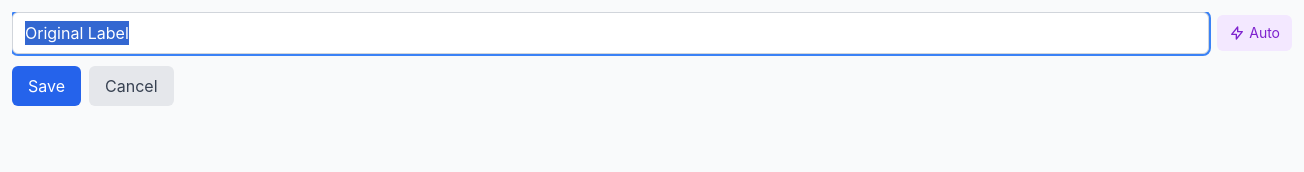
Scenario: ThemeLabelEditor › Validation States › should disable Save button for empty labels
This screenshot has width=1304, height=172.
Clear the field showing "Original Label". click: {"x": 611, "y": 33}
box: [12,12,1209,54]
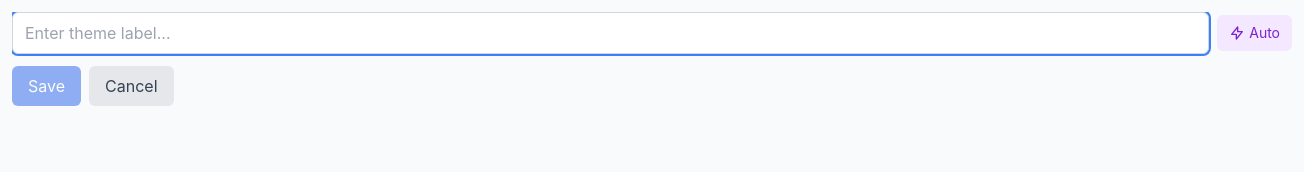
Expected: the button "Save" is disabled, [12,66,81,106]
